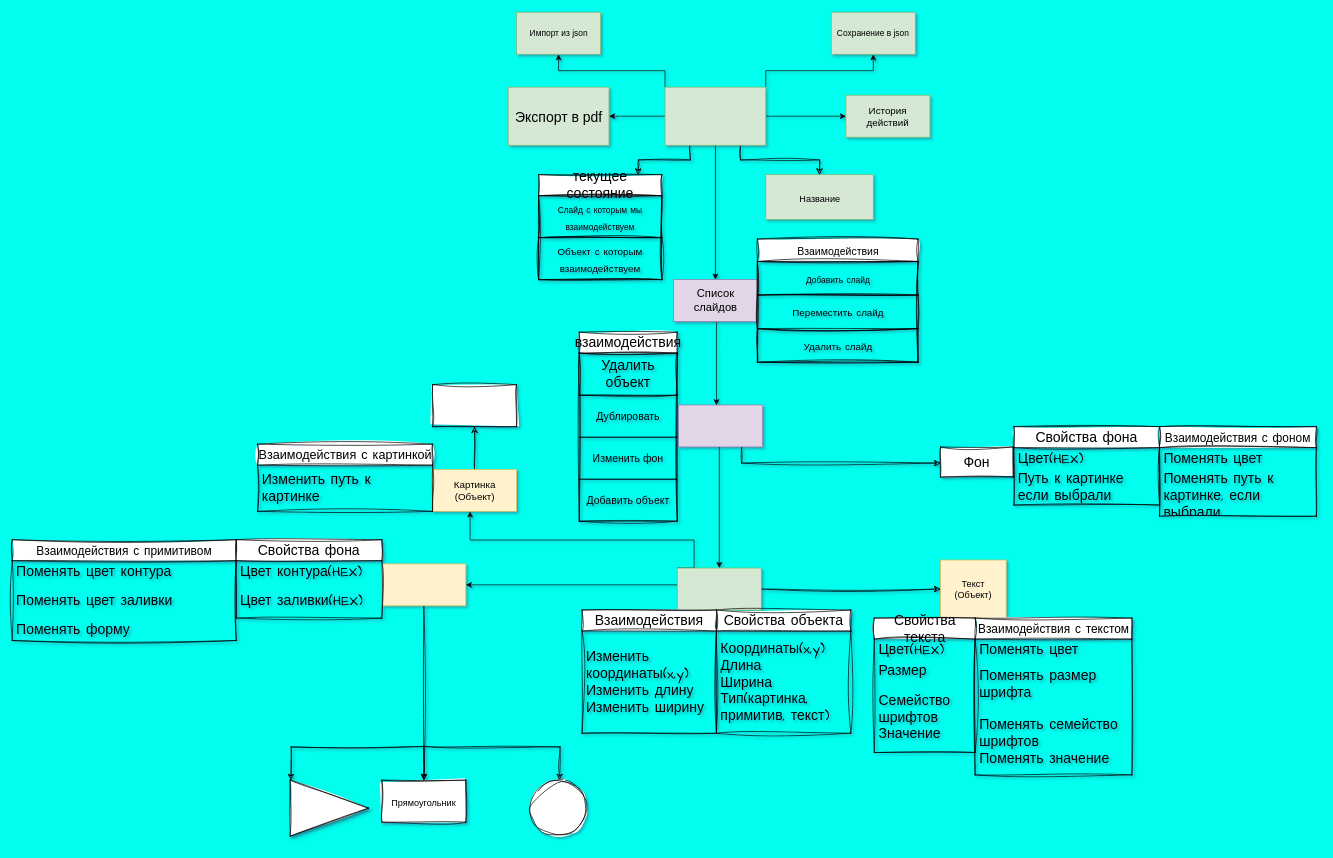
Image size: 1333x858. Some labels were removed from this diagram. Here are the shapes that lost their labels. From the top down, the centre of each, then its label:
At point 715,115: "Документ (Презентация) (Объект)".
At point 474,405: "Путь к картинке".
At point 720,425: "Слайд".
At point 423,584: "Примитивы (Объект)".
At point 719,588: "Объект".
At point 330,809: "Треугольник".
At point 558,807: "Круг".
